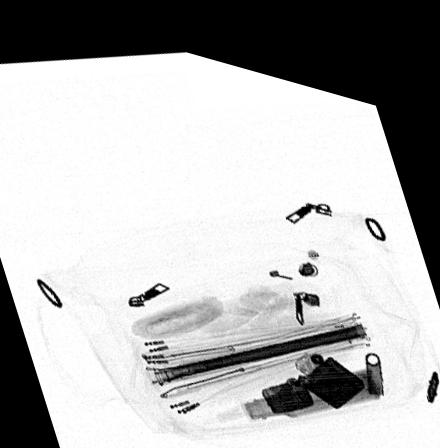Lighter: (260, 334, 364, 398)
